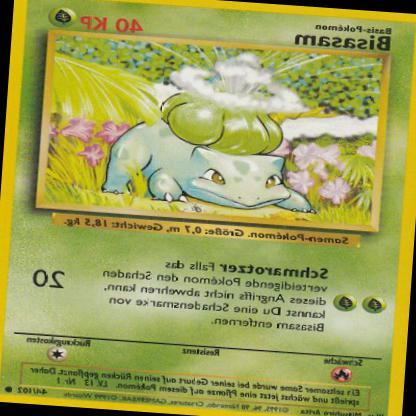Bulbasaur: (100, 43, 329, 216)
